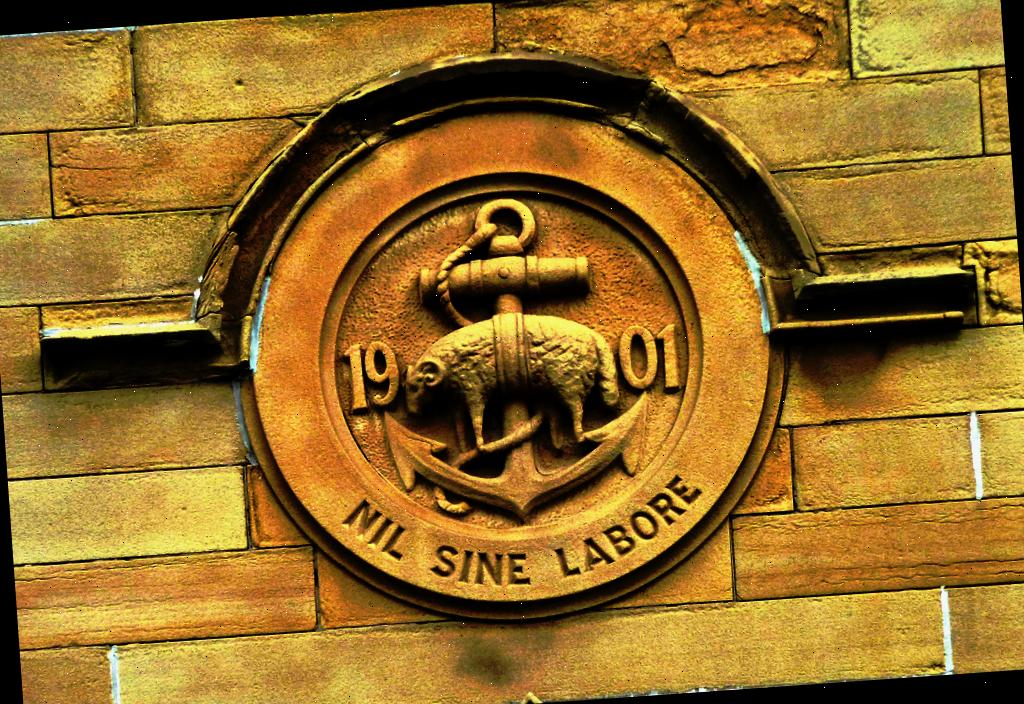Sheep: (398, 304, 626, 460)
